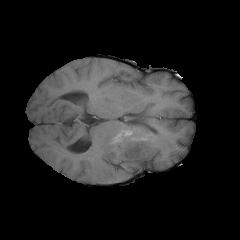glioma: (89, 125, 170, 183)
